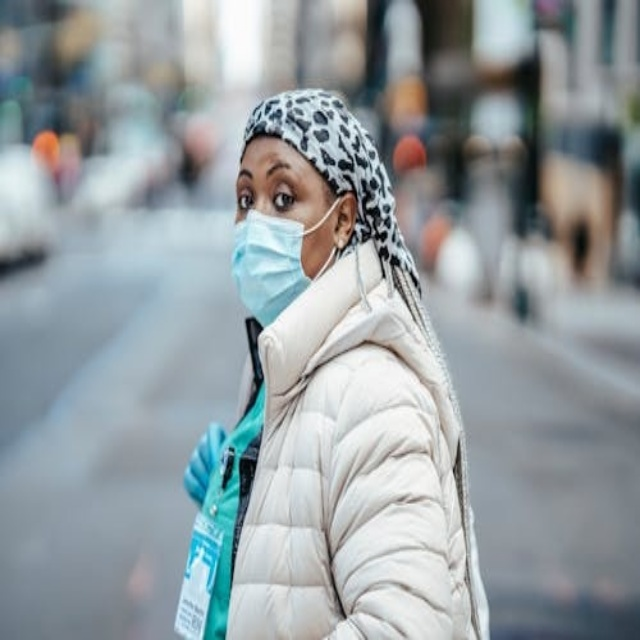Guantes: (183, 421, 226, 506)
Mascara: (231, 199, 324, 330)
Sin_gafas: (272, 190, 296, 211), (238, 191, 254, 212)
